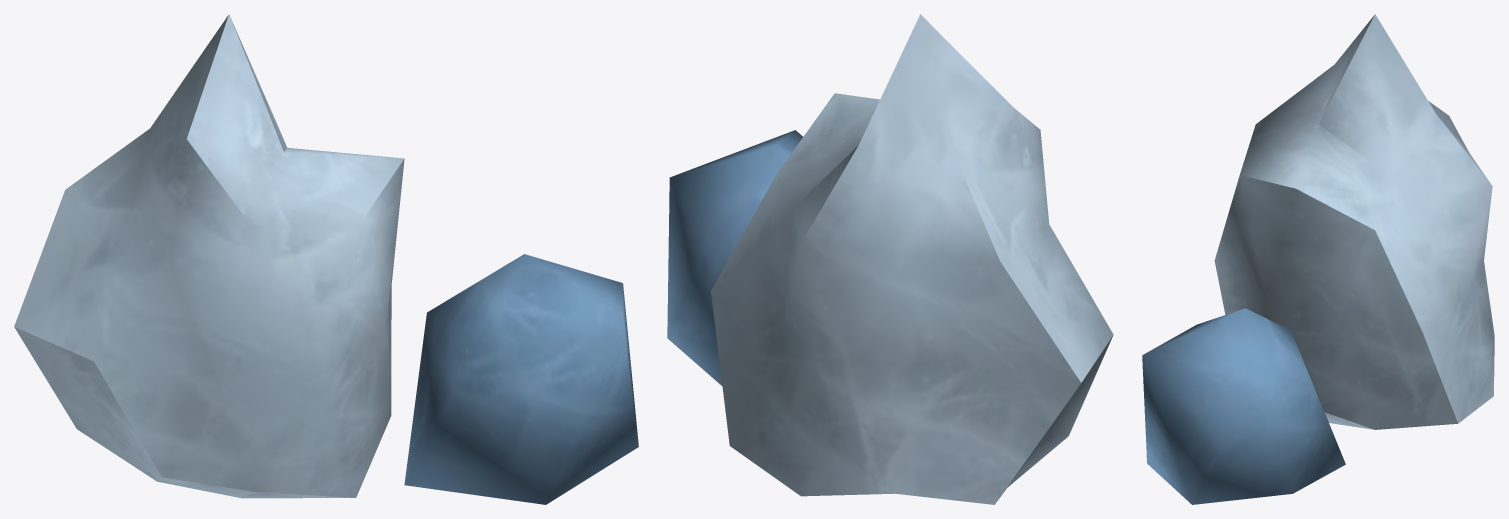
The model's file is ice_block_1.glb.
3 renders of one model, left to right at view 1: azimuth 30°, elevation 25°; view 2: azimuth 150°, elevation 25°; view 3: azimuth 270°, elevation 25°, orthographic. The views are drawn at different scales.
Visible parts, largest first — view 1: te_prop_ice_block_1; view 2: te_prop_ice_block_1; view 3: te_prop_ice_block_1.
Boxes of the visible parts, left/top/right/bottom form: te_prop_ice_block_1: left=14, top=14, right=638, bottom=504; te_prop_ice_block_1: left=667, top=14, right=1113, bottom=504; te_prop_ice_block_1: left=1142, top=14, right=1494, bottom=504.
Size of the model in its own units: 0.2295 by 0.1961 by 0.1633.
Materials: 1 (1 with a texture image).
